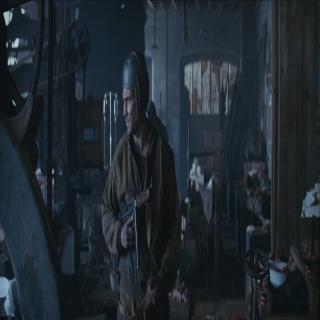gun: (111, 184, 151, 276)
